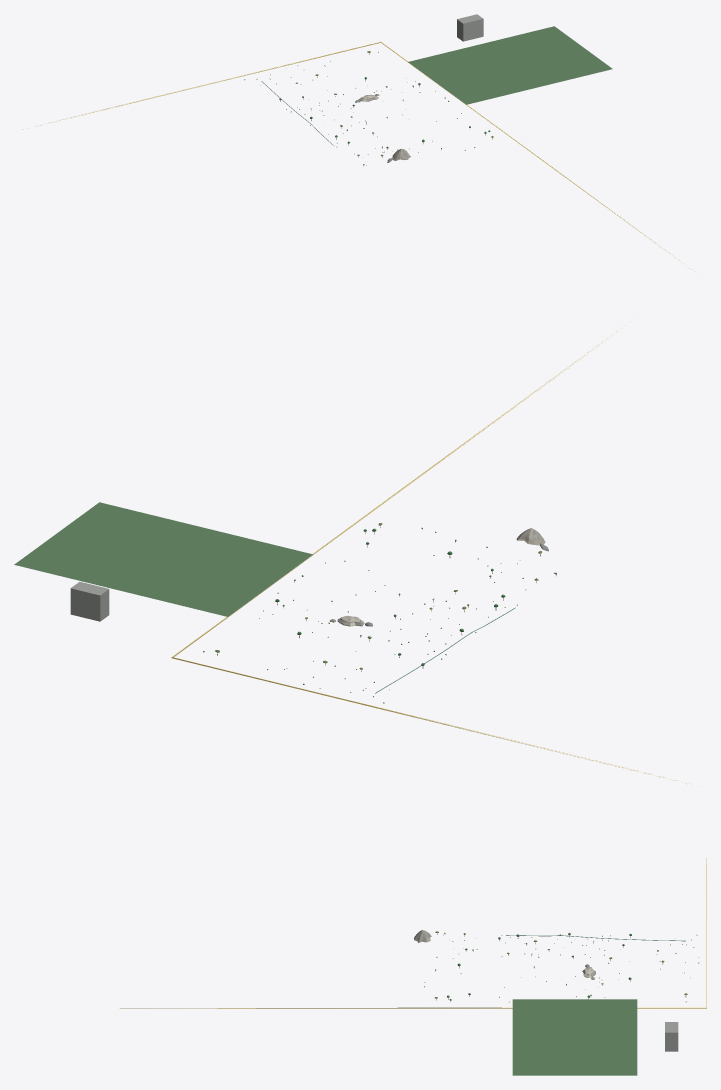
File: cell_6_-3_full.gltf
3 views of the same model, one above another, from view 1: azimuth 30°, elevation 25°; view 2: azimuth 150°, elevation 25°; view 3: azimuth 270°, elevation 25° (orthographic). The views are drawn at different scales.
Parts seen in each view (by area): view 1: OPENSPACE_3370, EKITI_RESERVE_BOUNDARY_REVIEW_V1, MASS_SHARED_007; view 2: OPENSPACE_3370, EKITI_RESERVE_BOUNDARY_REVIEW_V1, MASS_SHARED_007; view 3: OPENSPACE_3370, EKITI_RESERVE_BOUNDARY_REVIEW_V1, MASS_SHARED_007.
Boxes of the visible parts, x1,y1,x2,y2 form: OPENSPACE_3370: [408, 26, 612, 104]; EKITI_RESERVE_BOUNDARY_REVIEW_V1: [22, 42, 692, 269]; MASS_SHARED_007: [457, 14, 483, 41]; OPENSPACE_3370: [14, 502, 312, 616]; EKITI_RESERVE_BOUNDARY_REVIEW_V1: [171, 322, 699, 786]; MASS_SHARED_007: [70, 581, 109, 621]; OPENSPACE_3370: [512, 999, 637, 1075]; EKITI_RESERVE_BOUNDARY_REVIEW_V1: [120, 858, 706, 1008]; MASS_SHARED_007: [665, 1022, 678, 1051].
Bounding box in the file's own units: 901 × 32.61 × 1001.
